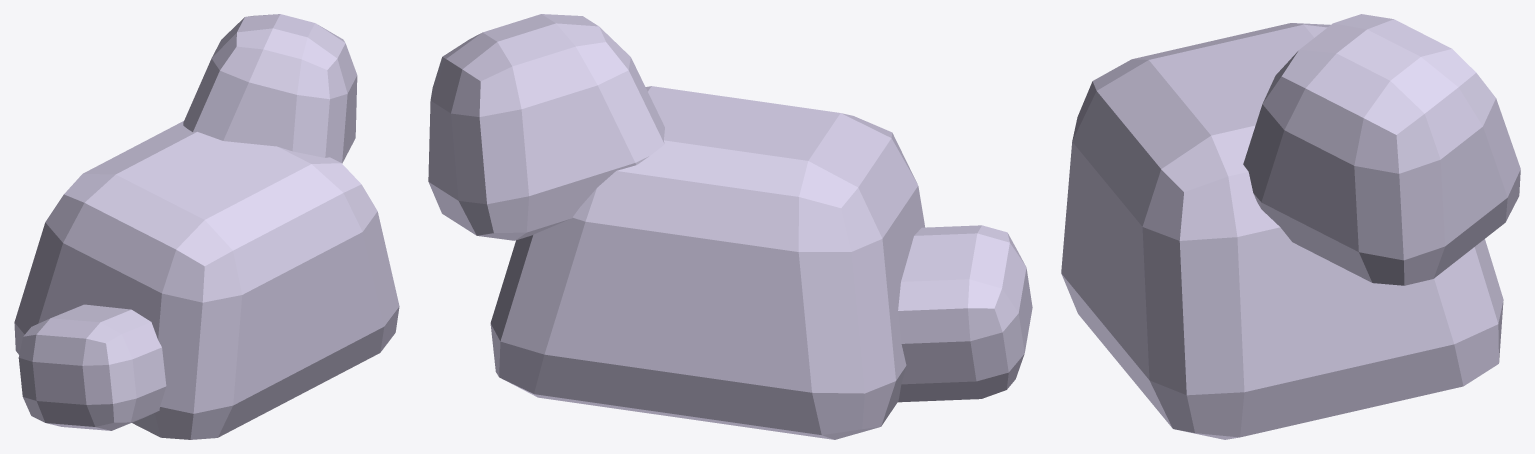
The model's file is boulder.glb.
3 views of the same model, side by side, from view 1: azimuth 30°, elevation 25°; view 2: azimuth 150°, elevation 25°; view 3: azimuth 270°, elevation 25° (orthographic). The views are drawn at different scales.
Visible parts, largest first — view 1: boulder; view 2: boulder; view 3: boulder.
Part boxes in pixels (x1,y1,x2,y2): boulder: [14, 14, 399, 439]; boulder: [428, 14, 1032, 439]; boulder: [1061, 14, 1520, 439].
Bounding box in the file's own units: 2.04 × 1.49 × 1.52.
